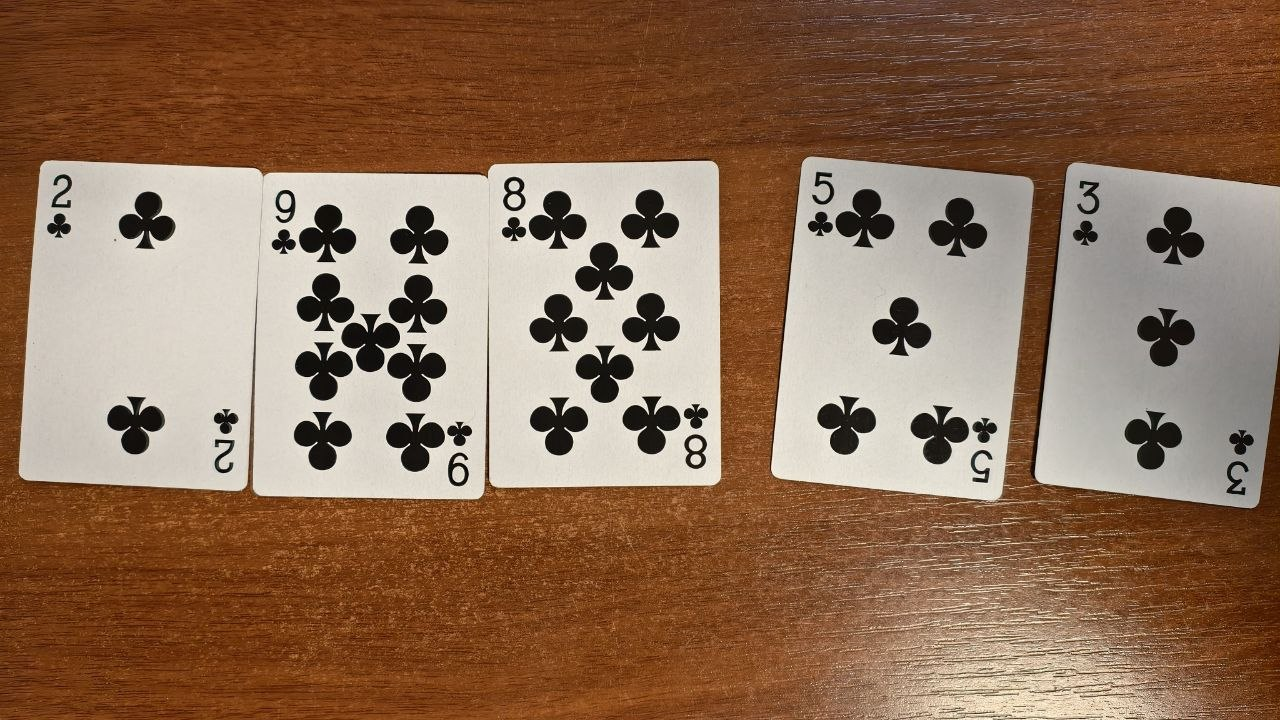2C: (18, 158, 264, 493)
3C: (1034, 162, 1280, 509)
5C: (770, 156, 1035, 502)
8C: (488, 159, 722, 488)
9C: (252, 171, 491, 501)
